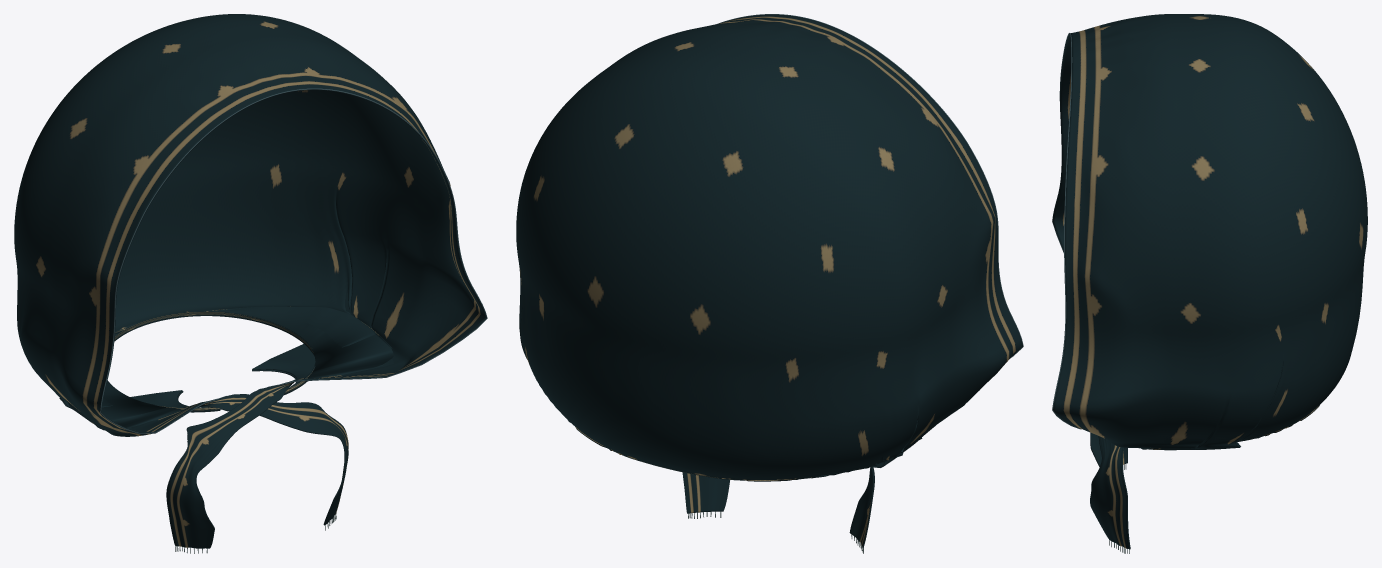
Rendered from Feminine-curls-strappy-pashmina250-headgear.glb.
The picture shows the model from 3 angles, left to right: view 1: azimuth 30°, elevation 25°; view 2: azimuth 150°, elevation 25°; view 3: azimuth 270°, elevation 25°; orthographic projection. The views are drawn at different scales.
Parts seen in each view (by area): view 1: 226 headgear / Headwear / continuous woven pashmina239, 226 headgear / Headwear / face edge239; view 2: 226 headgear / Headwear / continuous woven pashmina239, 226 headgear / Headwear / face edge239; view 3: 226 headgear / Headwear / continuous woven pashmina239, 226 headgear / Headwear / face edge239.
Part boxes in pixels (x1,y1,x2,y2): 226 headgear / Headwear / continuous woven pashmina239: (14,14,486,548); 226 headgear / Headwear / face edge239: (100,88,487,433); 226 headgear / Headwear / continuous woven pashmina239: (516,14,1022,547); 226 headgear / Headwear / face edge239: (717,14,1023,358); 226 headgear / Headwear / continuous woven pashmina239: (1052,14,1367,549); 226 headgear / Headwear / face edge239: (1052,33,1081,429).
Size of the model in its own units: 1.21 by 1.4 by 0.8347.
Materials: 3 (1 with a texture image).
